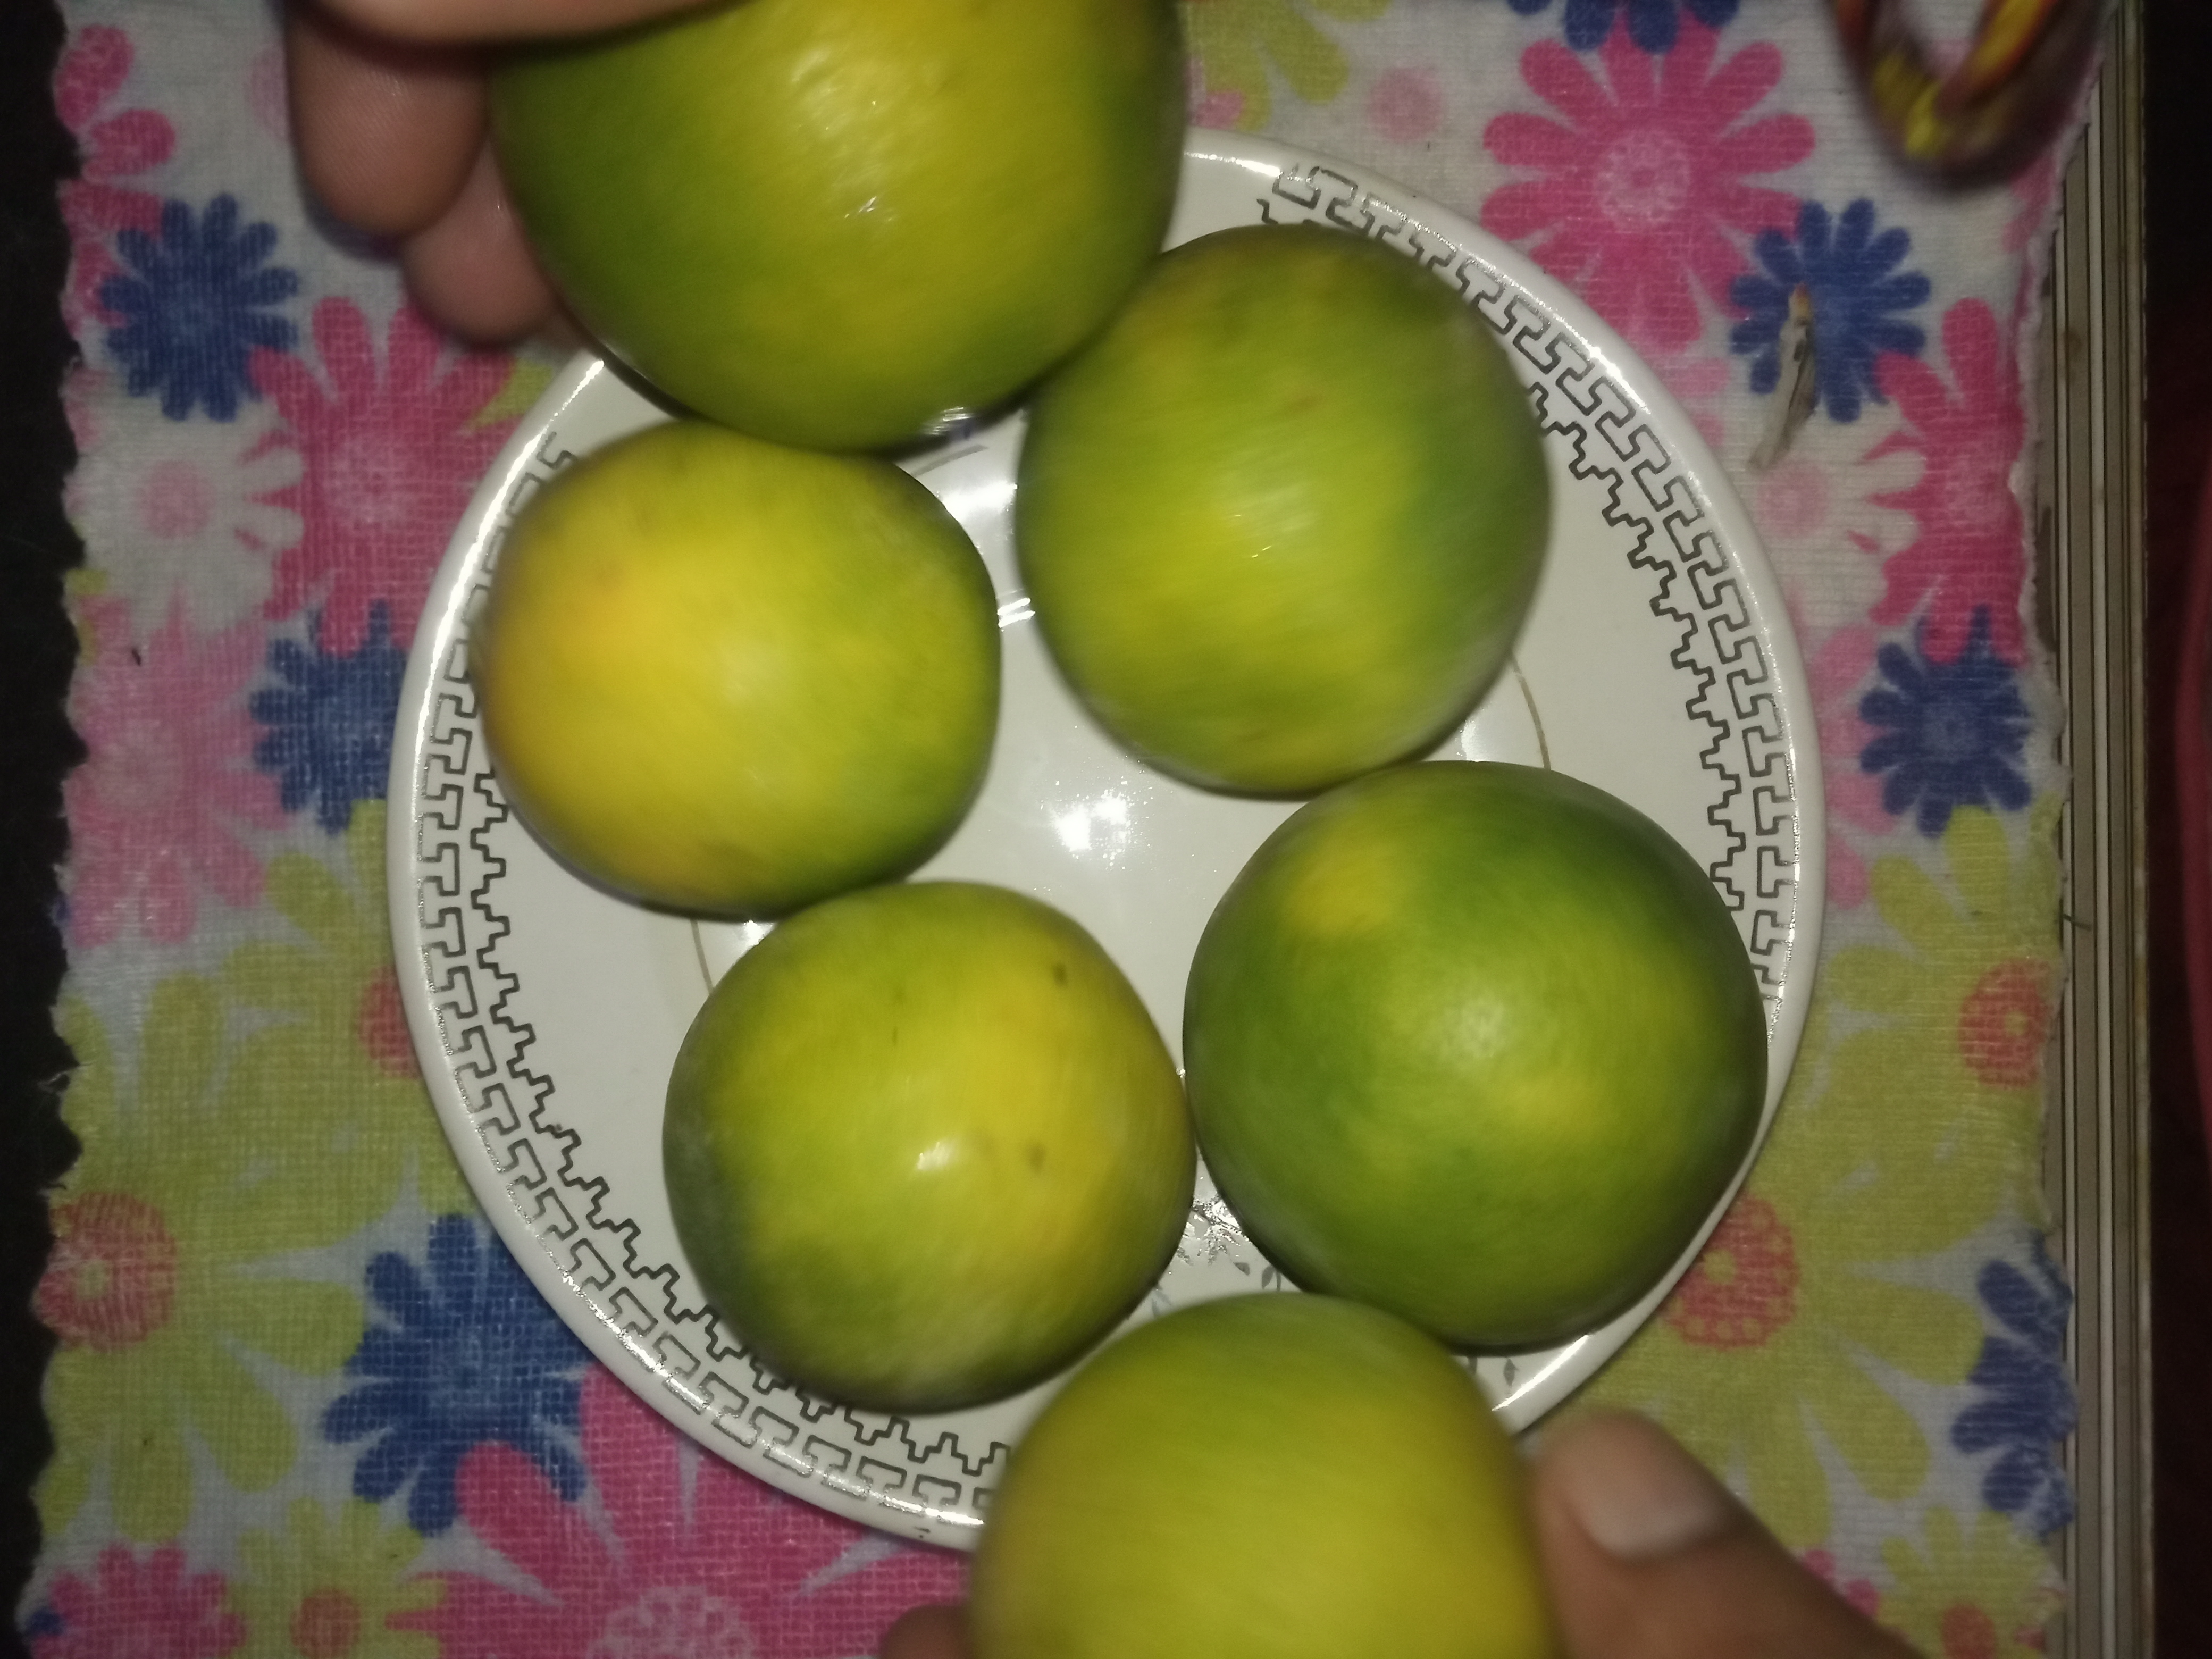food: (457, 4, 1791, 1658)
